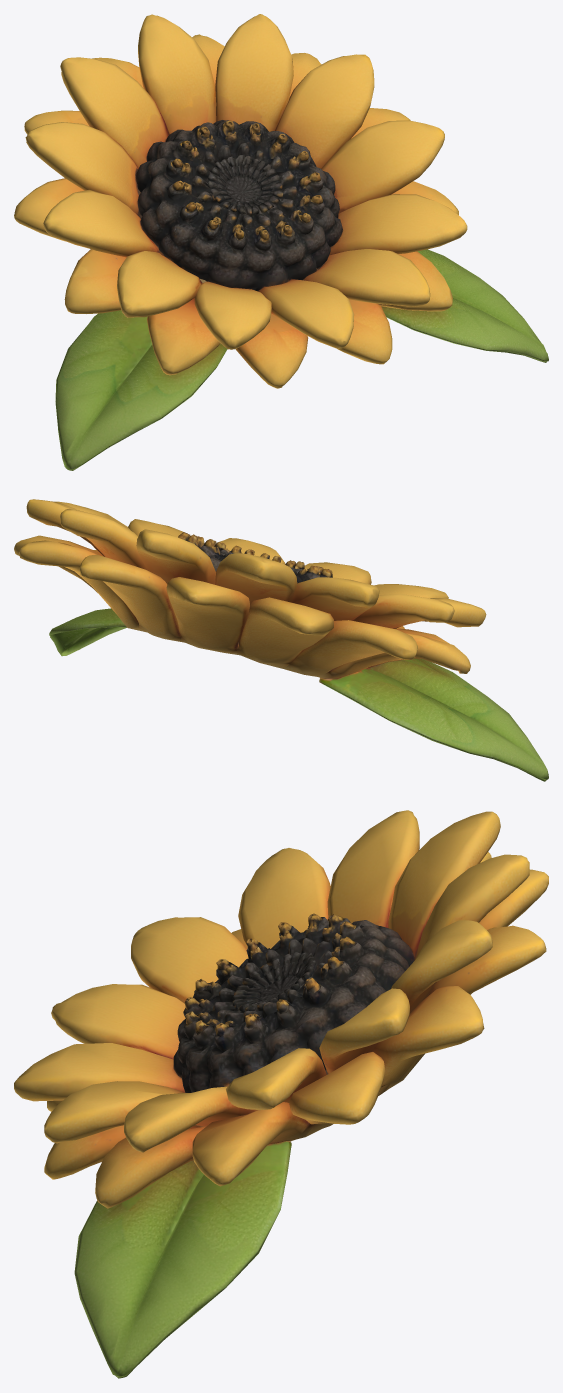
The model's file is mem_ac_sunflower.fbx.
3 views of the same model, one above another, from view 1: azimuth 30°, elevation 25°; view 2: azimuth 150°, elevation 25°; view 3: azimuth 270°, elevation 25° (orthographic). The views are drawn at different scales.
Visible parts, largest first — view 1: tripo_node_ea36fa82-f2df-45c3-875c-f4b77beaa42c; view 2: tripo_node_ea36fa82-f2df-45c3-875c-f4b77beaa42c; view 3: tripo_node_ea36fa82-f2df-45c3-875c-f4b77beaa42c.
Part boxes in pixels (x1=…): tripo_node_ea36fa82-f2df-45c3-875c-f4b77beaa42c: x1=14, y1=14, x2=548, y2=470; tripo_node_ea36fa82-f2df-45c3-875c-f4b77beaa42c: x1=14, y1=499, x2=548, y2=781; tripo_node_ea36fa82-f2df-45c3-875c-f4b77beaa42c: x1=14, y1=810, x2=548, y2=1378.
Size of the model in its own units: 0.998 by 0.584 by 0.7598.
Materials: 1 (1 with a texture image).
